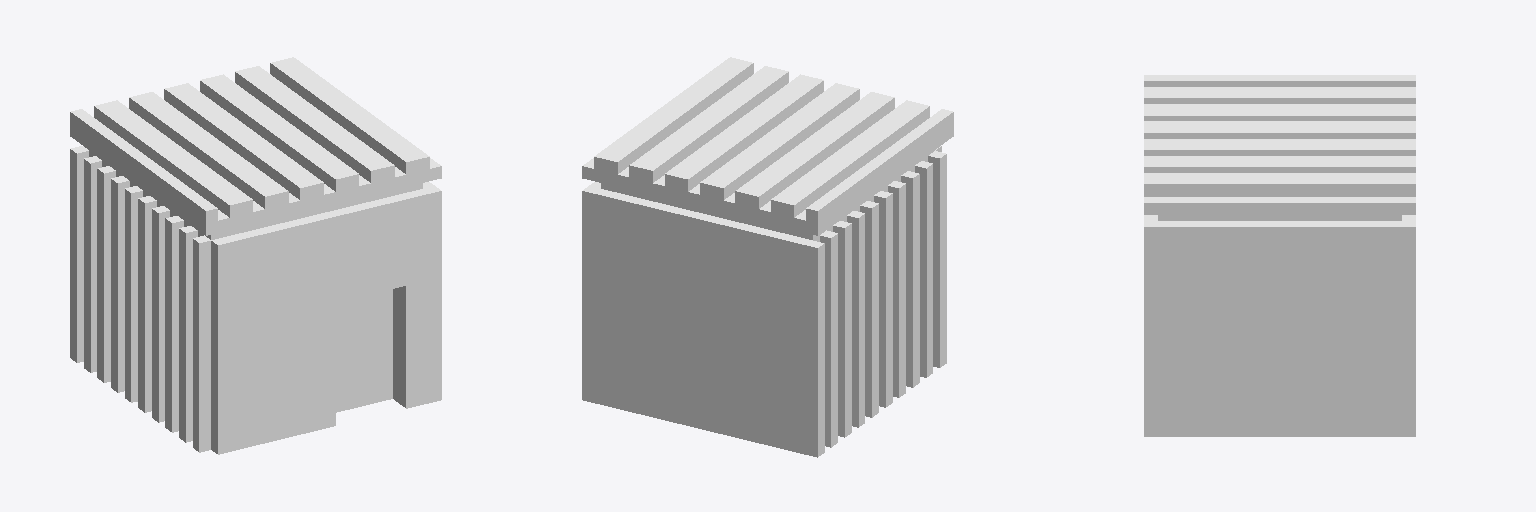
File: OBJ_Test_House.obj
3 views of the same model, side by side, from view 1: azimuth 30°, elevation 25°; view 2: azimuth 150°, elevation 25°; view 3: azimuth 270°, elevation 25° (orthographic).
Visible parts, largest first — view 1: object 1; view 2: object 1; view 3: object 1.
Boxes of the visible parts, x1=… form: object 1: x1=70, y1=57, x2=441, y2=454; object 1: x1=582, y1=57, x2=953, y2=457; object 1: x1=1144, y1=75, x2=1415, y2=436.
Bounding box in the file's own units: 2 × 2 × 2.